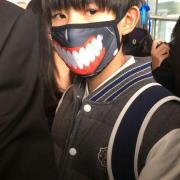OK: (50, 6, 116, 72)
